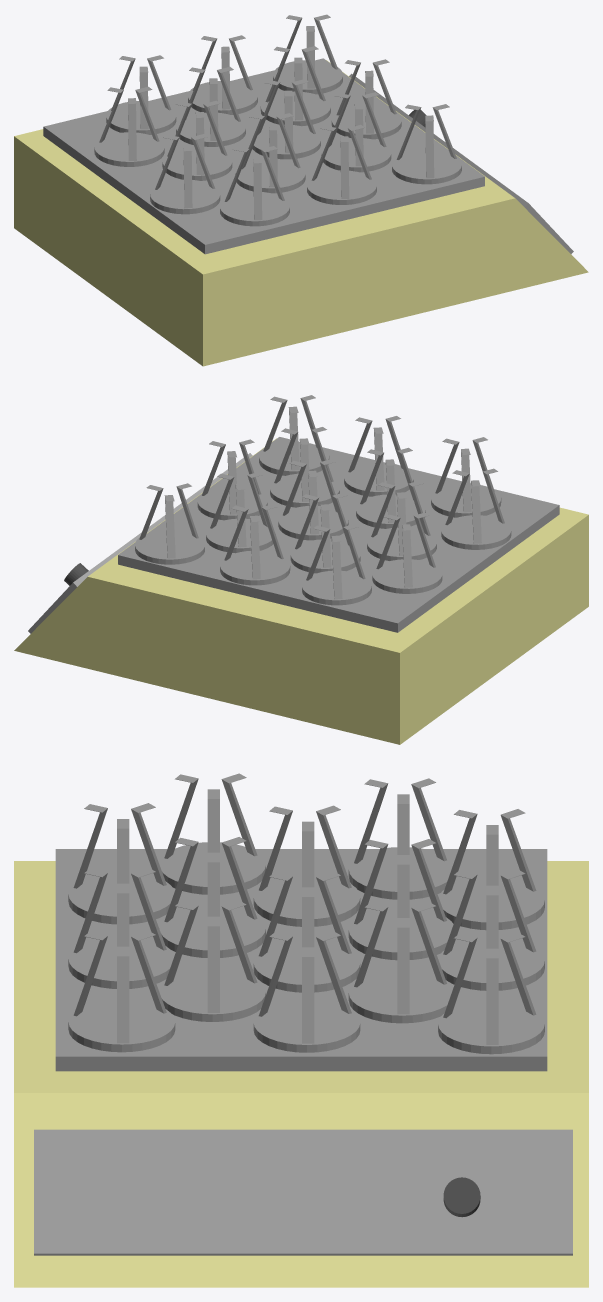
Rendered from shaker.fbx.
3 views of the same model, one above another, from view 1: azimuth 30°, elevation 25°; view 2: azimuth 150°, elevation 25°; view 3: azimuth 270°, elevation 25° (orthographic). The views are drawn at different scales.
Visible parts, largest first — view 1: Cube, Plane, Cylinder.003, Cylinder.001, Cylinder.002, Cylinder.012, Cylinder.006, Cylinder.004, Cylinder.005, Cylinder.008, Cylinder.007, Cylinder.013 (+6 smaller); view 2: Cube, Plane, Cylinder.012, Cylinder.015, Cylinder.006, Cylinder.013, Cylinder.014, Cylinder.010, Cylinder.007, Cylinder.008, Cylinder.011, Cylinder.003 (+6 smaller); view 3: Cube, Plane.001, Plane, Cylinder.001, Cylinder.009, Cylinder.015, Cylinder.005, Cylinder.010, Cylinder.007, Cylinder.014, Cylinder.008, Cylinder.004 (+7 smaller).
Boxes of the visible parts, box(x1,y1,x2,y2) form: Cube: box(14, 60, 588, 366); Plane: box(43, 58, 484, 254); Cylinder.003: box(220, 146, 289, 226); Cylinder.001: box(392, 104, 461, 184); Cylinder.002: box(307, 124, 376, 204); Cylinder.012: box(94, 86, 164, 166); Cylinder.006: box(150, 134, 220, 214); Cylinder.004: box(235, 113, 305, 193); Cylinder.005: box(321, 92, 391, 172); Cylinder.008: box(251, 79, 320, 159); Cylinder.007: box(162, 100, 232, 180); Cylinder.013: box(106, 55, 176, 134); Cube: box(14, 438, 588, 744); Plane: box(118, 437, 559, 632); Cylinder.012: box(372, 512, 442, 593); Cylinder.015: box(135, 483, 204, 564); Cylinder.006: box(441, 468, 511, 549); Cylinder.013: box(302, 524, 371, 605); Cylinder.014: box(220, 504, 290, 585); Cylinder.010: box(206, 472, 275, 553); Cylinder.007: box(367, 480, 436, 560); Cylinder.008: box(278, 459, 348, 540); Cylinder.011: box(290, 492, 360, 573); Cylinder.003: box(431, 437, 501, 517); Cube: box(14, 861, 588, 1287); Plane.001: box(34, 1129, 572, 1255); Plane: box(55, 849, 547, 1071); Cylinder.001: box(68, 931, 175, 1052); Cylinder.009: box(253, 931, 360, 1052); Cylinder.015: box(438, 933, 544, 1054); Cylinder.005: box(159, 900, 265, 1021); Cylinder.010: box(348, 902, 453, 1023); Cylinder.007: box(253, 805, 360, 926); Cylinder.014: box(438, 869, 544, 990); Cylinder.008: box(253, 871, 360, 992); Cylinder.004: box(159, 837, 265, 957).
Size of the model in its own units: 1063 by 488 by 902.
